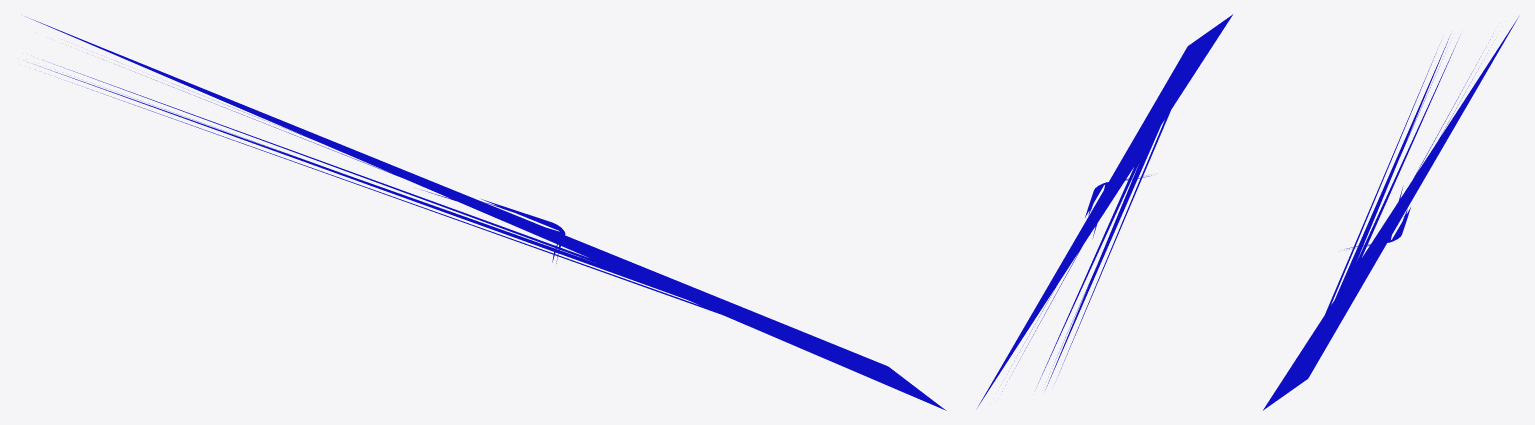
3 views of the same model, side by side, from view 1: azimuth 30°, elevation 25°; view 2: azimuth 150°, elevation 25°; view 3: azimuth 330°, elevation 25° (orthographic). The views are drawn at different scales.
Size of the model in its own units: 2309 by 0 by 7427.
